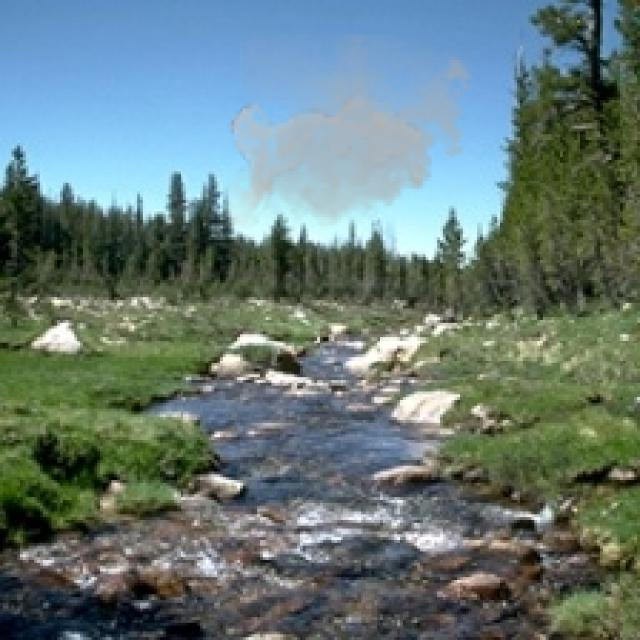smoke: (226, 34, 480, 234)
